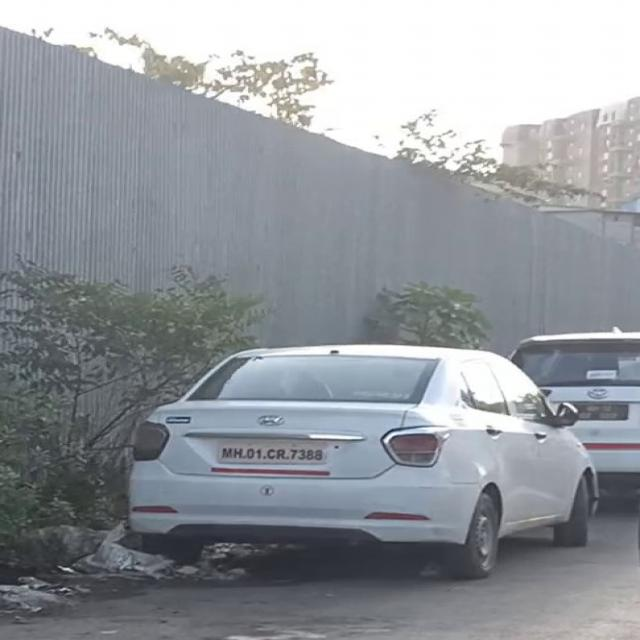Plate: (214, 440, 329, 467)
